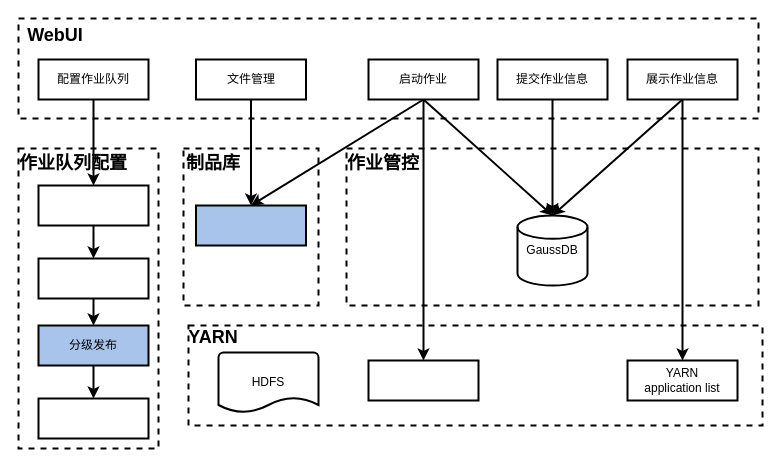
This 780x466 diagram has some shape labels left out. The box of each missing label's shape, as (x1, y1, x2, y2) in pixels:
Flink: (367, 359, 479, 401)
下发xml文件: (37, 397, 149, 439)
分级发布 制品库: (194, 204, 306, 246)
读取xml文件: (37, 184, 149, 226)
通过分级发布上传配置文件: (37, 257, 149, 299)
